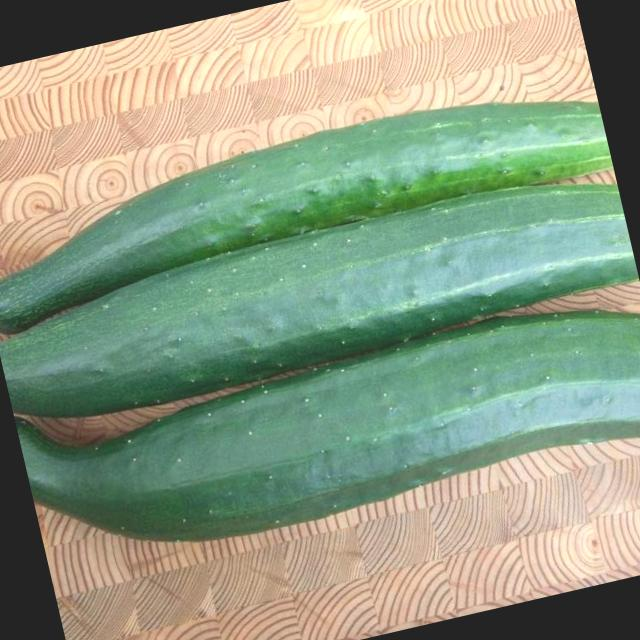Cucumber: (24, 288, 640, 575), (0, 160, 634, 430), (0, 67, 618, 335)
